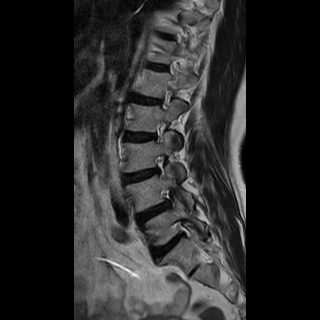RFS0: (148, 115, 171, 148), (150, 150, 173, 180), (155, 84, 177, 114)
RFS1: (166, 216, 194, 249)
RFS2: (155, 182, 183, 215)
